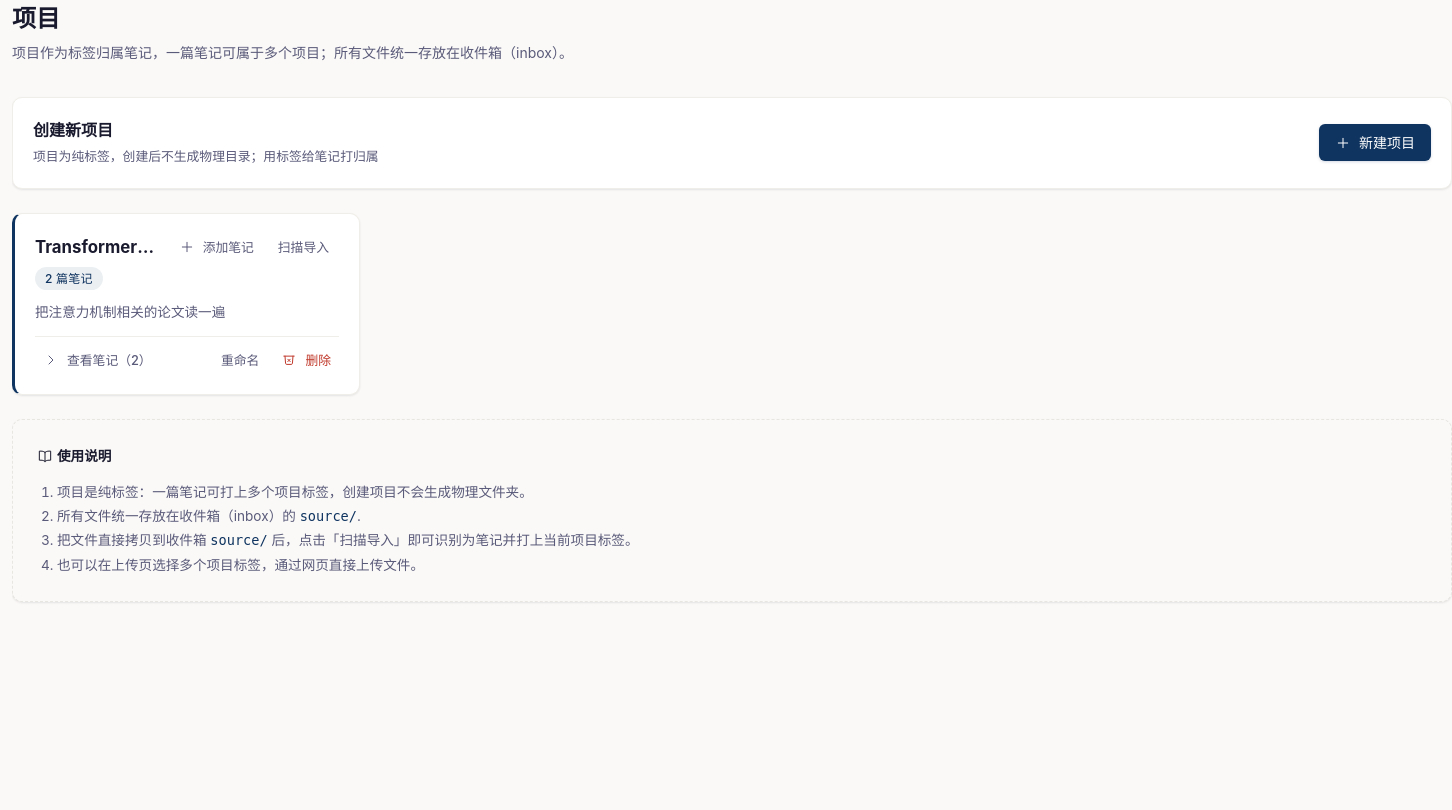
Test: 项目下的笔记 › 安全：详情缺 notes 字段时显示"项目暂无笔记"，不整页崩
This screenshot has width=1452, height=810.
Expected: the heading "Transformer 论文精读" is shown, [35, 234, 157, 261]
Click the button "查看笔记（2）" at (97, 360), box [35, 347, 160, 374]
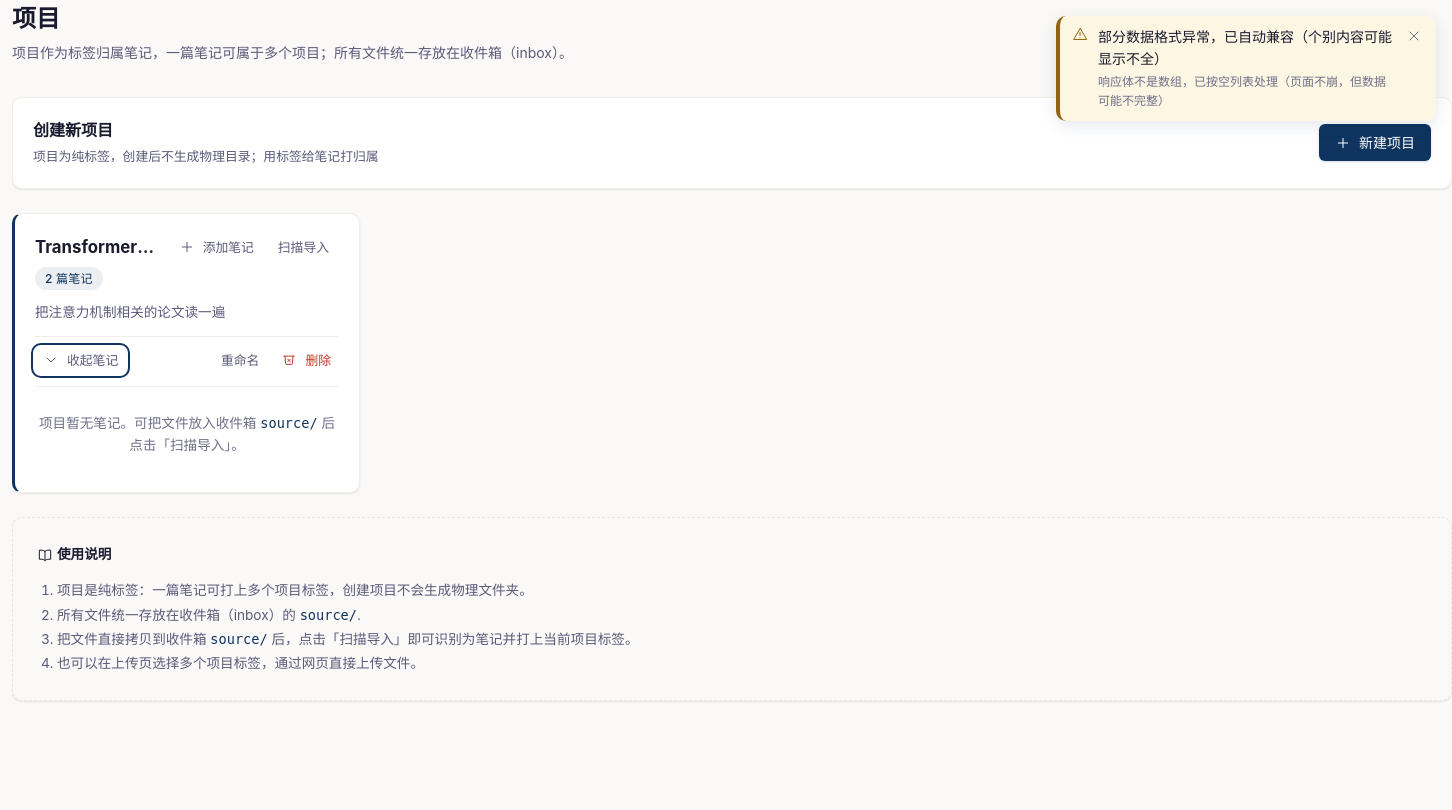
Result: the text "项目暂无笔记。可把文件放入收件箱 source/ 后点击「扫描导入」。" is shown at [39, 415, 335, 453]
